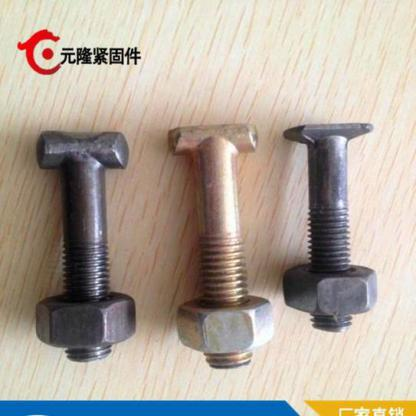FOD: (32, 132, 136, 364), (36, 290, 134, 351)
